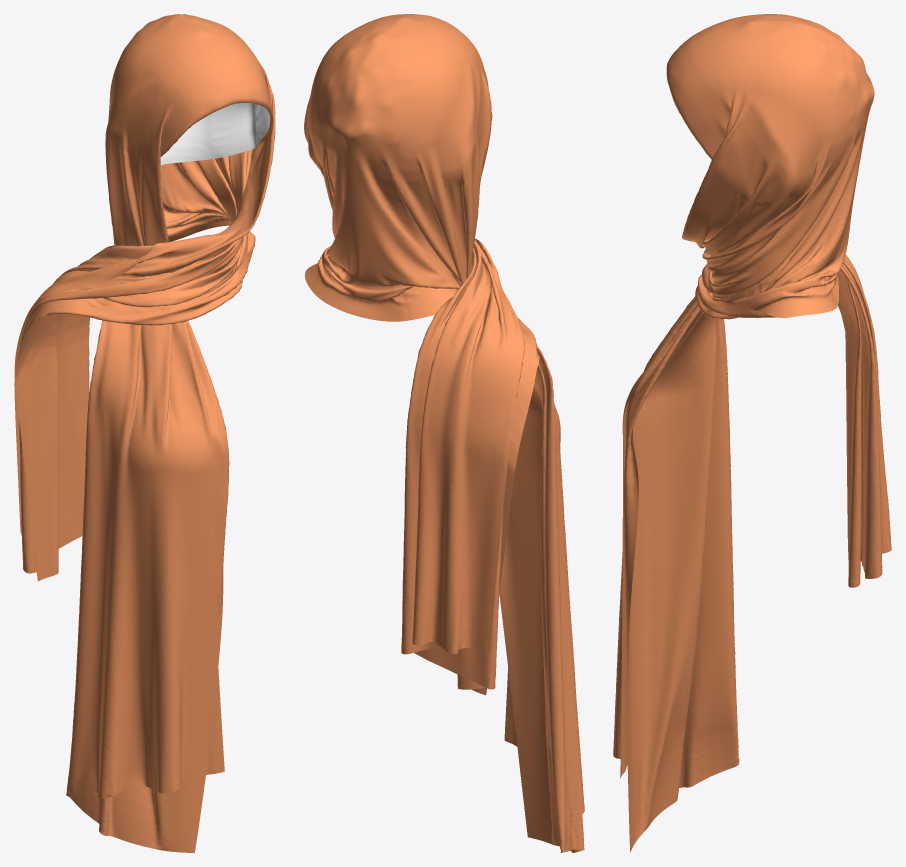
Rendered from 1752146284588-1ze2qsi2ut2.glb.
3 views of the same model, side by side, from view 1: azimuth 30°, elevation 25°; view 2: azimuth 150°, elevation 25°; view 3: azimuth 270°, elevation 25° (orthographic). The views are drawn at different scales.
Parts seen in each view (by area): view 1: Cloth; view 2: Cloth; view 3: Cloth.
Boxes of the visible parts, box(x1,y1,x2,y2) form: Cloth: box(14, 14, 275, 852); Cloth: box(304, 14, 584, 852); Cloth: box(613, 14, 891, 852).
Bounding box in the file's own units: 0.2699 × 0.9111 × 0.2664.
1 material, 1 textured.
